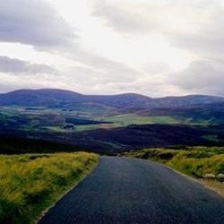neutral: (1, 1, 223, 222)
